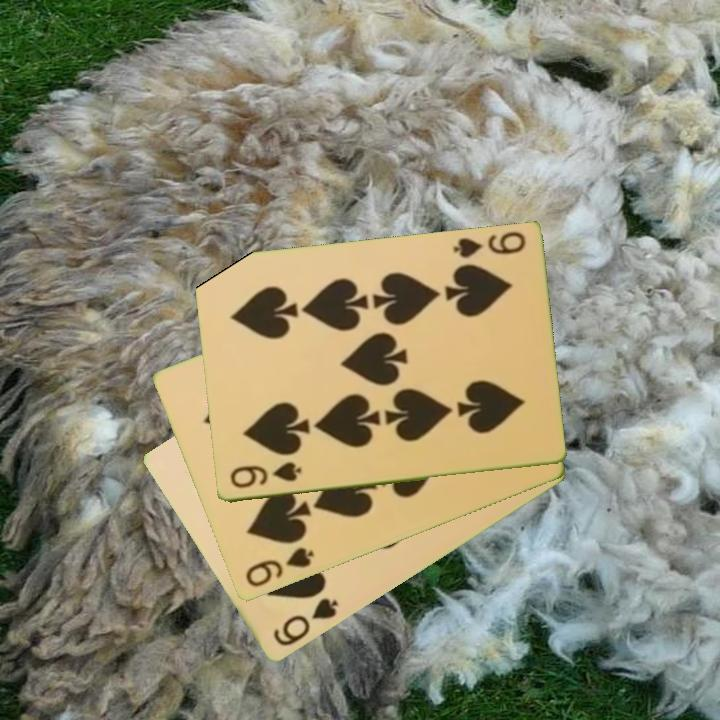6s: (269, 594, 341, 650)
9s: (241, 544, 317, 591), (449, 228, 528, 262), (226, 458, 304, 492)
